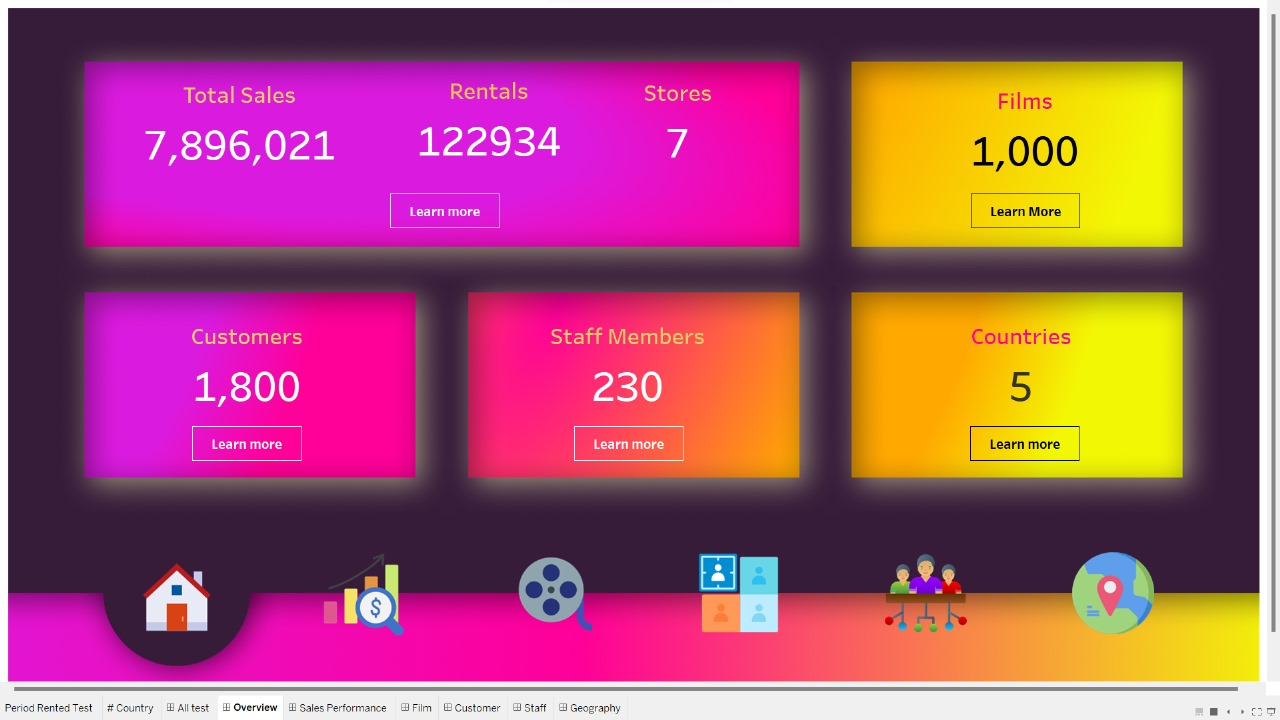

What the dashboard file says about the page in this screenshot:
{"tool":"tableau","page":{"name":"Overview","canvas":[1920,1080],"ordinal":4},"visuals":[{"type":"image","param":"D:/ITI intensive code camp/Graduation Project/Sakila/Tableau/navigation bar 1 wi","box":[8,8,1904,1064]},{"type":"worksheet","title":"# Rentals","mark":"Text","box":[613,108,241,164]},{"type":"worksheet","title":"# Stores","mark":"Automatic","box":[908,111,237,164]},{"type":"worksheet","title":"Total Sales","mark":"Automatic","box":[209,114,354,164]},{"type":"worksheet","title":"# Films","mark":"Automatic","box":[1395,123,292,164]},{"type":"dashboard-object","box":[585,290,164,52]},{"type":"dashboard-object","box":[1456,290,164,52]},{"type":"worksheet","title":"# Customers","mark":"Automatic","box":[232,476,283,164]},{"type":"worksheet","title":"# Staff","mark":"Automatic","box":[771,476,340,164]},{"type":"worksheet","title":"# Country","mark":"Automatic","box":[1415,476,246,153]},{"type":"dashboard-object","box":[288,639,164,52]},{"type":"dashboard-object","box":[861,639,164,52]},{"type":"dashboard-object","box":[1455,639,164,52]},{"type":"dashboard-object","box":[734,823,185,123]},{"type":"dashboard-object","box":[1017,828,180,123]},{"type":"dashboard-object","box":[1298,828,180,123]},{"type":"dashboard-object","box":[1579,828,180,123]},{"type":"dashboard-object","box":[455,830,180,123]},{"type":"dashboard-object","box":[178,834,175,122]}]}

Visuals, with their boxes on the page's 1920x1080 design canvas (x1, y1, x2, y2). These are canvas units, not pixel positions in the 1280x720 screenshot, which may show the page scaled, cropped or inside an application window:
image: locate(8, 8, 1912, 1072)
"# Rentals" worksheet (Text marks): locate(613, 108, 854, 272)
"# Stores" worksheet: locate(908, 111, 1145, 275)
"Total Sales" worksheet: locate(209, 114, 563, 278)
"# Films" worksheet: locate(1395, 123, 1687, 287)
dashboard-object: locate(585, 290, 749, 342)
dashboard-object: locate(1456, 290, 1620, 342)
"# Customers" worksheet: locate(232, 476, 515, 640)
"# Staff" worksheet: locate(771, 476, 1111, 640)
"# Country" worksheet: locate(1415, 476, 1661, 629)
dashboard-object: locate(288, 639, 452, 691)
dashboard-object: locate(861, 639, 1025, 691)
dashboard-object: locate(1455, 639, 1619, 691)
dashboard-object: locate(734, 823, 919, 946)
dashboard-object: locate(1017, 828, 1197, 951)
dashboard-object: locate(1298, 828, 1478, 951)
dashboard-object: locate(1579, 828, 1759, 951)
dashboard-object: locate(455, 830, 635, 953)
dashboard-object: locate(178, 834, 353, 956)
